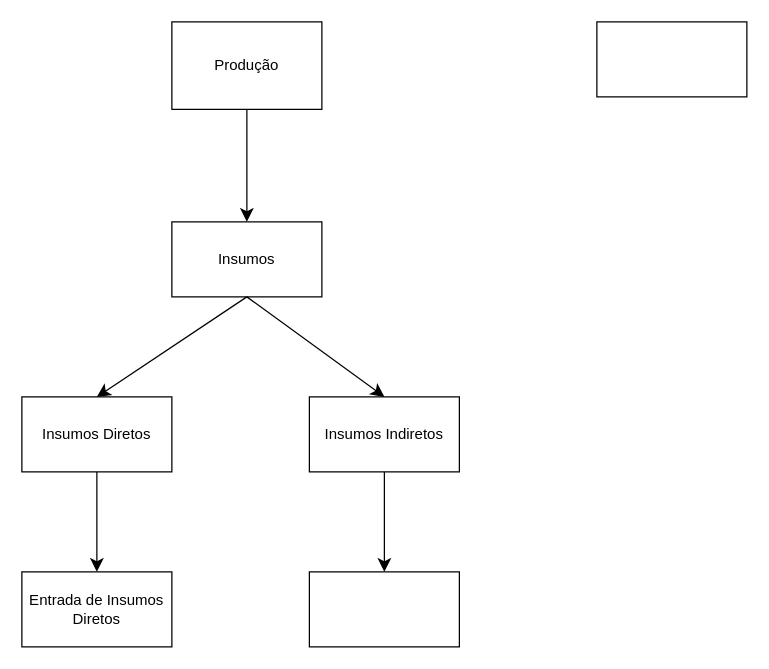
This 769x669 diagram has some shape labels left out. Here are the shapes that lost their labels. From the top down, the centre of each, then its label:
At (671,59): "Comercial".
At (383,609): "Entrada de Insumos Indiretos".
